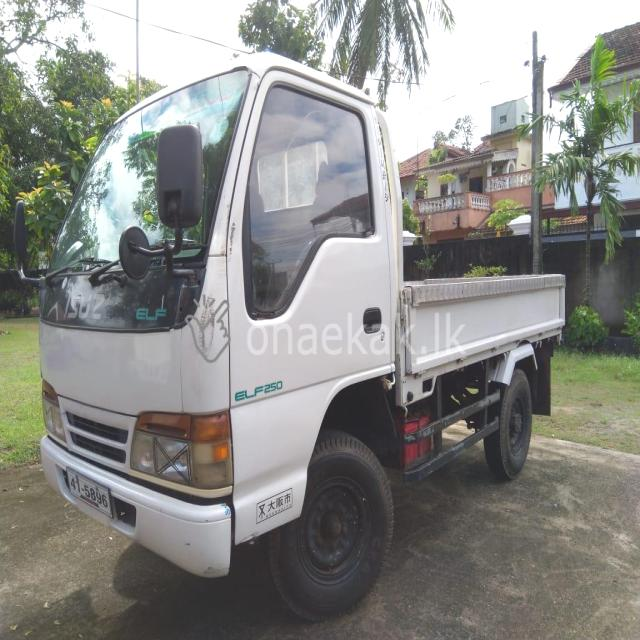Truck: (39, 50, 565, 614)
